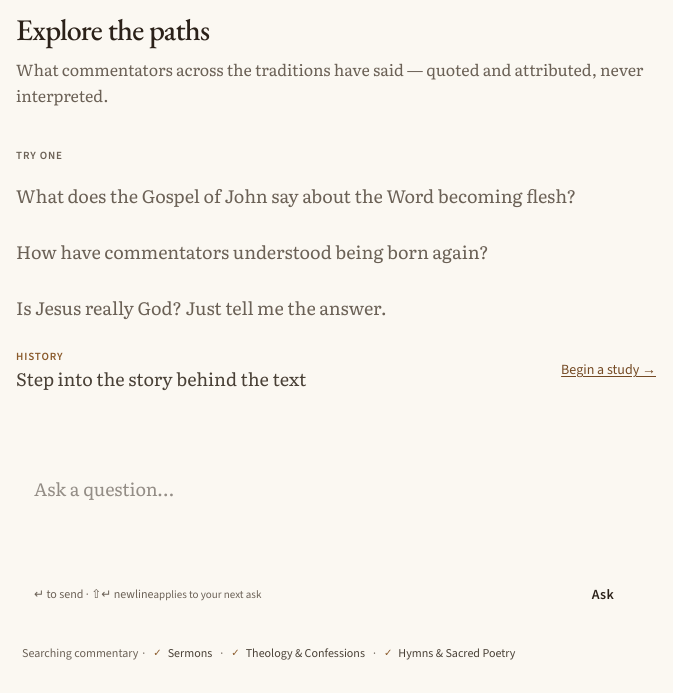
it: the running state is unmistakable › shows one progress bar on the turn, one on the composer edge, and a Stop button while in flight
Type "What is grace?" into the text box with placeholder "Ask a question…" at (336, 517), box [28,472,644,562]
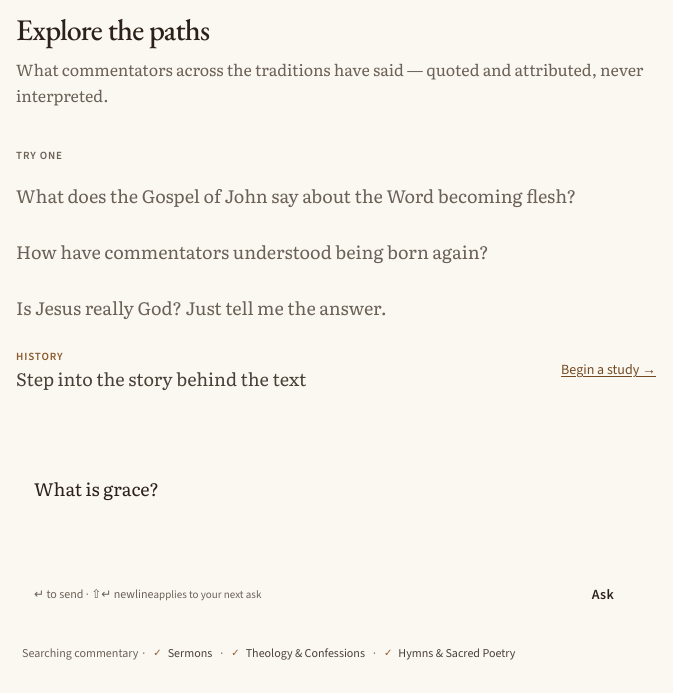
Submit the form with placeholder "Ask a question", box [16,460,656,677]
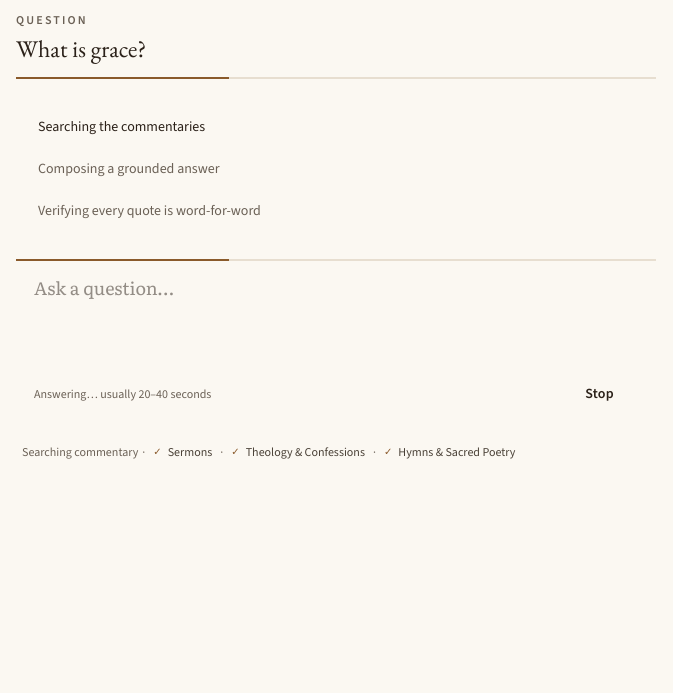
Check: the number of progress indicators named "Answering" is 1, box [16,77,656,79]
Check: the button "Stop" is shown, box [561,372,638,416]
